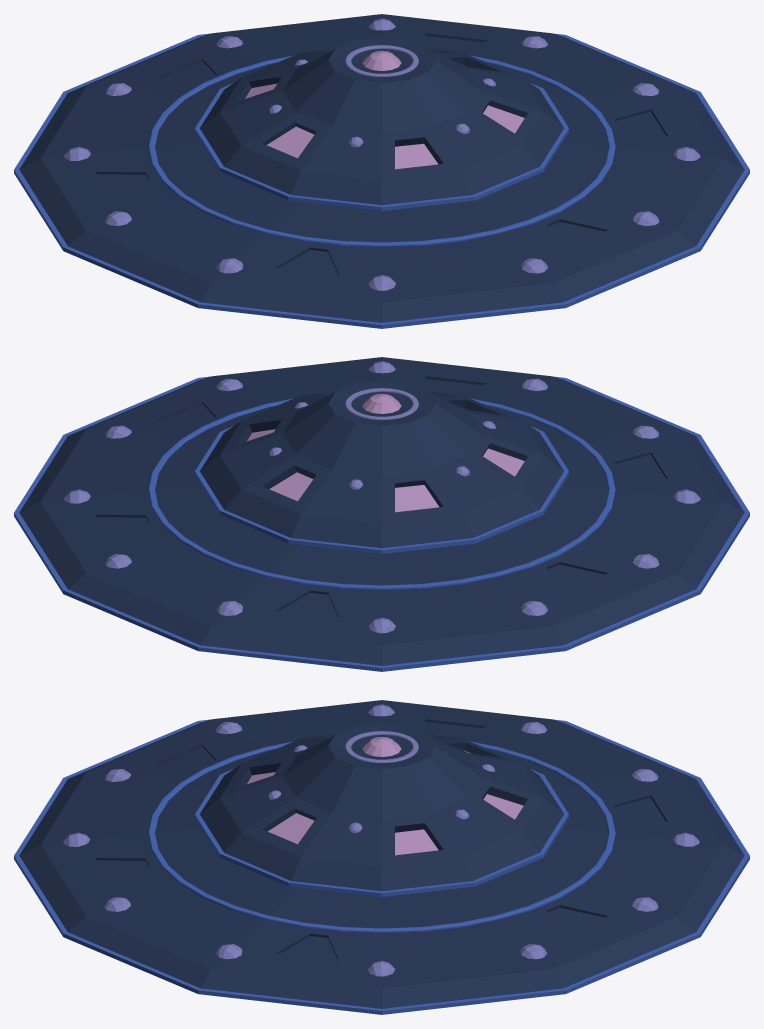
The model's file is flying_saucer.glb.
3 renders of one model, top to bottom at view 1: azimuth 30°, elevation 25°; view 2: azimuth 150°, elevation 25°; view 3: azimuth 270°, elevation 25°, orthographic.
Visible parts, largest first — view 1: node-0; view 2: node-0; view 3: node-0.
Boxes of the visible parts, x1,y1,x2,y2 form: node-0: (14,14,749,328); node-0: (14,357,749,671); node-0: (14,700,749,1014).
Bounding box in the file's own units: 424 × 108 × 424.
1 material, 1 textured.
